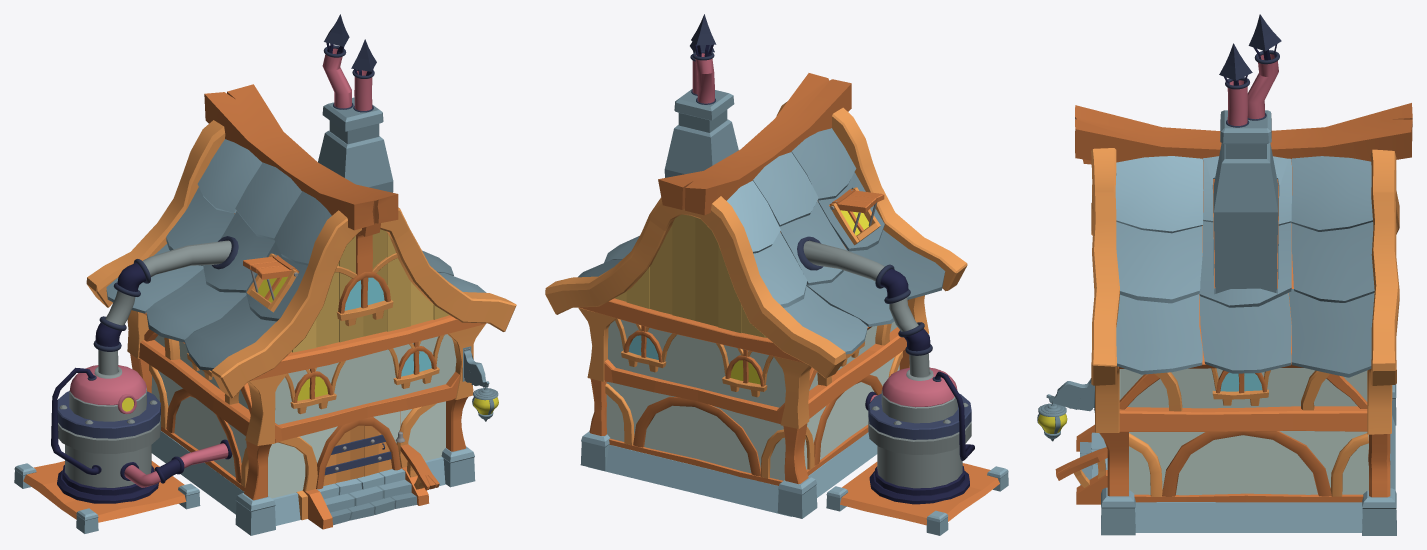
Rendered from XYZ_ДЗ_6_домик.fbx.
The picture shows the model from 3 angles, left to right: view 1: azimuth 30°, elevation 25°; view 2: azimuth 150°, elevation 25°; view 3: azimuth 270°, elevation 25°; orthographic projection. The views are drawn at different scales.
Parts seen in each view (by area): view 1: Cube.001, Cube.006, Cube.017, Cube.024, Cube.007, Cube.003, Cube.152, Cube.171, Cube.155, Cube, Cube.002, Cube.150 (+46 smaller); view 2: Cube.001, Cube.007, Cube.017, Cube, Cube.024, Cube.006, Cube.171, Cube.034, Cube.150, Cube.153, Cube.033, Cylinder.035 (+35 smaller); view 3: Cube.001, Cube.017, Cube.024, Cube, Cube.156, Cube.161, Cube.007, Cube.038, Cube.158, Cube.164, Cube.006, Cube.157 (+29 smaller).
Boxes of the visible parts, bbox=[...] form: Cube.001: bbox=[151, 334, 456, 498]; Cube.006: bbox=[211, 207, 516, 398]; Cube.017: bbox=[204, 84, 398, 230]; Cube.024: bbox=[318, 97, 393, 192]; Cube.007: bbox=[86, 120, 225, 307]; Cube.003: bbox=[250, 315, 486, 380]; Cube.152: bbox=[146, 269, 246, 342]; Cube.171: bbox=[23, 461, 186, 522]; Cube.155: bbox=[184, 295, 276, 370]; Cube: bbox=[151, 431, 445, 525]; Cube.002: bbox=[275, 371, 459, 443]; Cube.150: bbox=[235, 162, 301, 239]; Cube.001: bbox=[606, 319, 899, 480]; Cube.007: bbox=[545, 196, 845, 378]; Cube.017: bbox=[658, 73, 851, 215]; Cube: bbox=[588, 432, 877, 516]; Cube.024: bbox=[664, 89, 738, 177]; Cube.006: bbox=[776, 101, 967, 291]; Cube.171: bbox=[840, 462, 999, 525]; Cube.034: bbox=[579, 298, 804, 362]; Cube.150: bbox=[753, 152, 818, 226]; Cube.153: bbox=[791, 128, 856, 200]; Cube.033: bbox=[604, 359, 784, 423]; Cylinder.035: bbox=[803, 240, 933, 380]; Cube.001: bbox=[1119, 368, 1368, 495]; Cube.017: bbox=[1075, 103, 1412, 162]; Cube.024: bbox=[1213, 110, 1278, 293]; Cube: bbox=[1135, 415, 1395, 532]; Cube.156: bbox=[1115, 156, 1203, 233]; Cube.161: bbox=[1199, 288, 1291, 373]; Cube.007: bbox=[1370, 149, 1399, 385]; Cube.038: bbox=[1119, 406, 1367, 431]; Cube.158: bbox=[1116, 294, 1202, 374]; Cube.164: bbox=[1289, 289, 1374, 377]; Cube.006: bbox=[1090, 148, 1119, 385]; Cube.157: bbox=[1116, 222, 1202, 303].
Bounding box in the file's own units: 1634 × 1750 × 1223.
